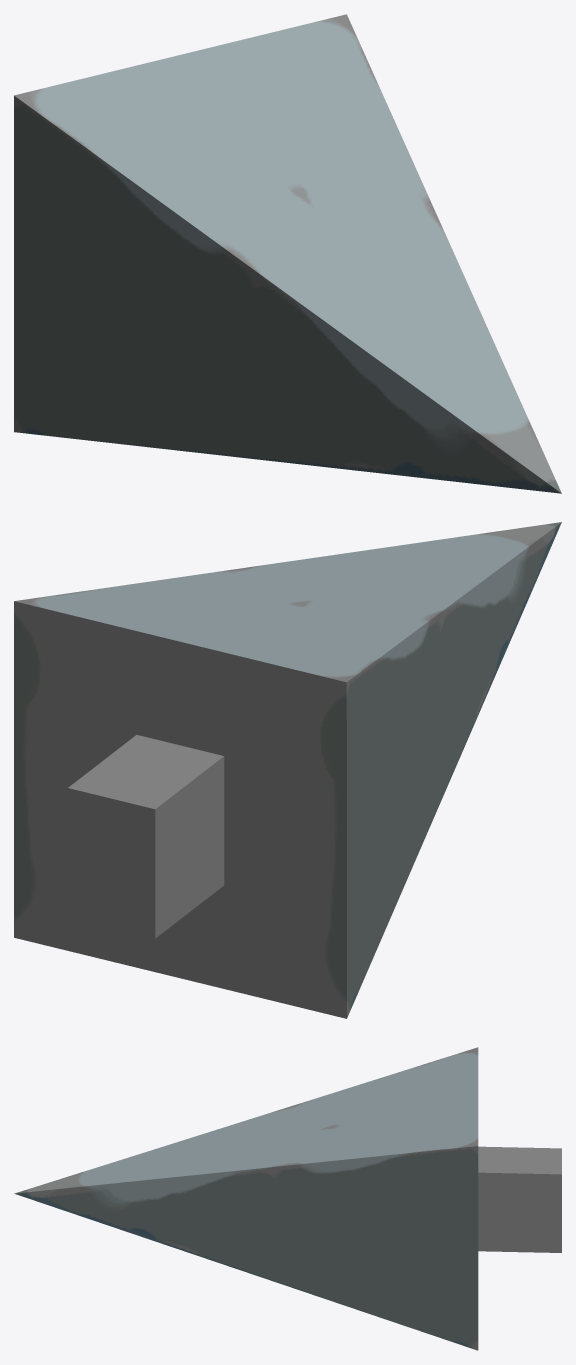
File: Dice_Plane_wepon.fbx
The picture shows the model from 3 angles, top to bottom: view 1: azimuth 30°, elevation 25°; view 2: azimuth 150°, elevation 25°; view 3: azimuth 270°, elevation 25°; orthographic projection. The views are drawn at different scales.
Parts seen in each view (by area): view 1: Object001; view 2: Object001; view 3: Object001.
Boxes of the visible parts, box(x1,y1,x2,y2) form: Object001: box(14, 14, 561, 493); Object001: box(14, 522, 561, 1018); Object001: box(14, 1047, 561, 1350).
Size of the model in its own units: 18.34 by 17.73 by 42.99.
